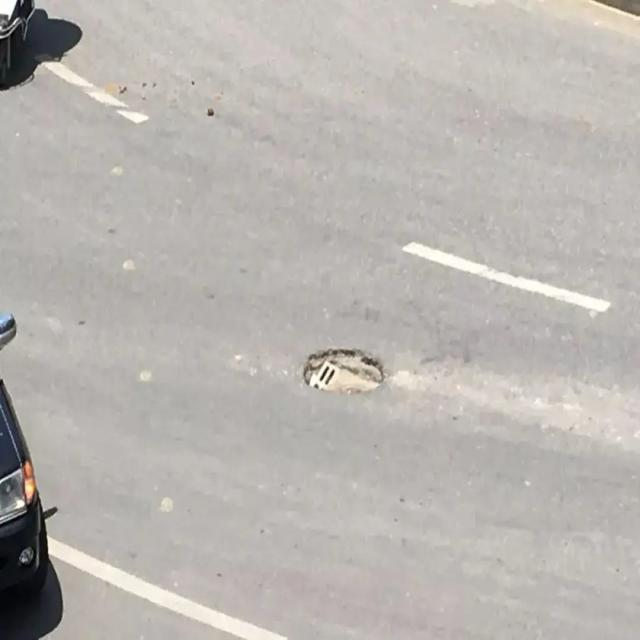pothole: (303, 349, 384, 393)
